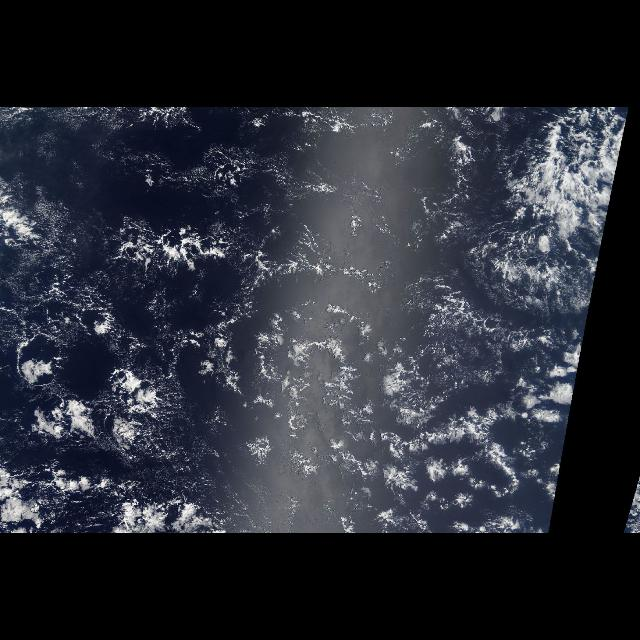Flower: (229, 332, 587, 532)
Sugar: (6, 124, 434, 316)
